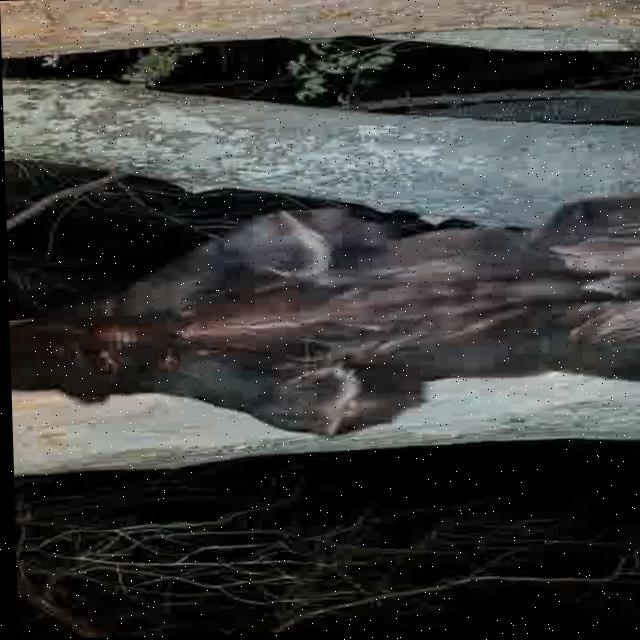bear face: (5, 200, 640, 447)
